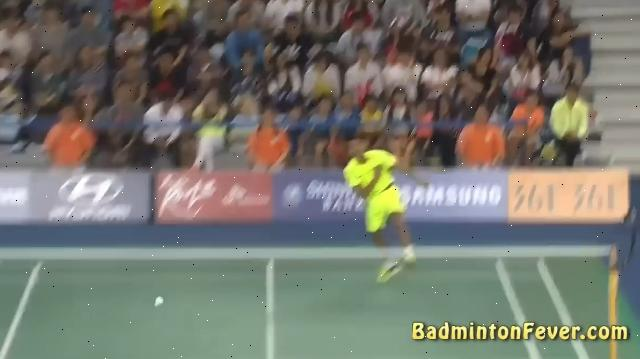Shuttlecock: (147, 292, 167, 312)
